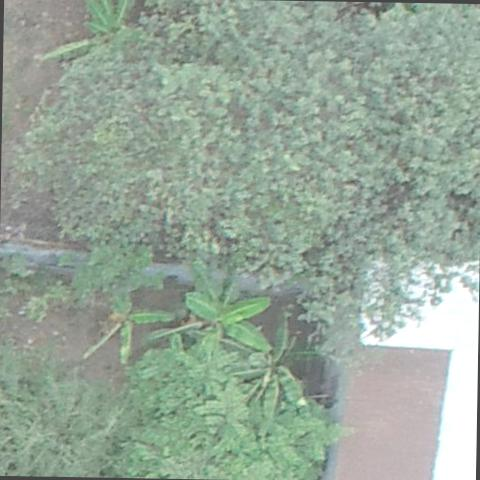Banana-plant: (231, 312, 309, 431), (182, 287, 272, 368), (79, 292, 174, 366), (82, 0, 147, 49)
